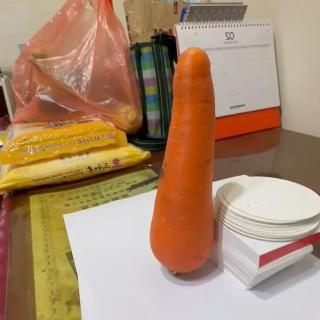carrot: (146, 48, 216, 276)
